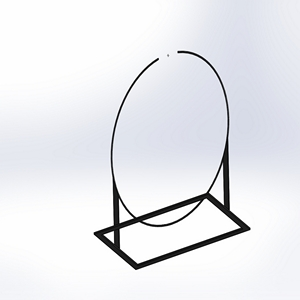circle: (90, 48, 252, 271)
